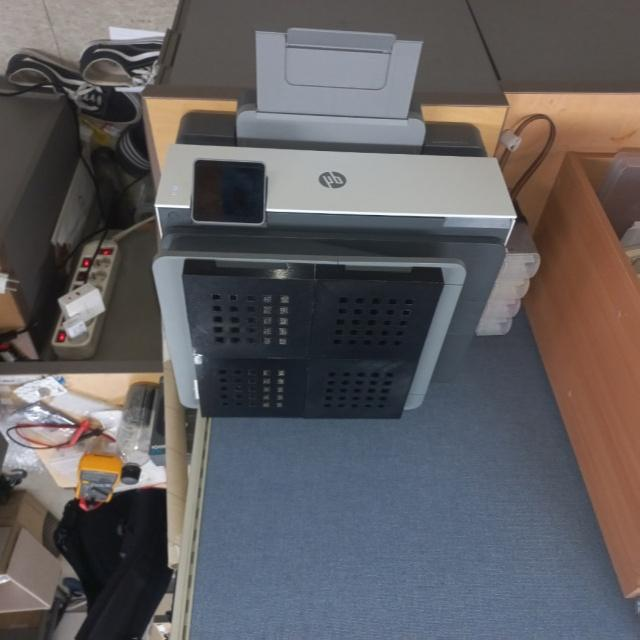pallet: (179, 261, 442, 427)
